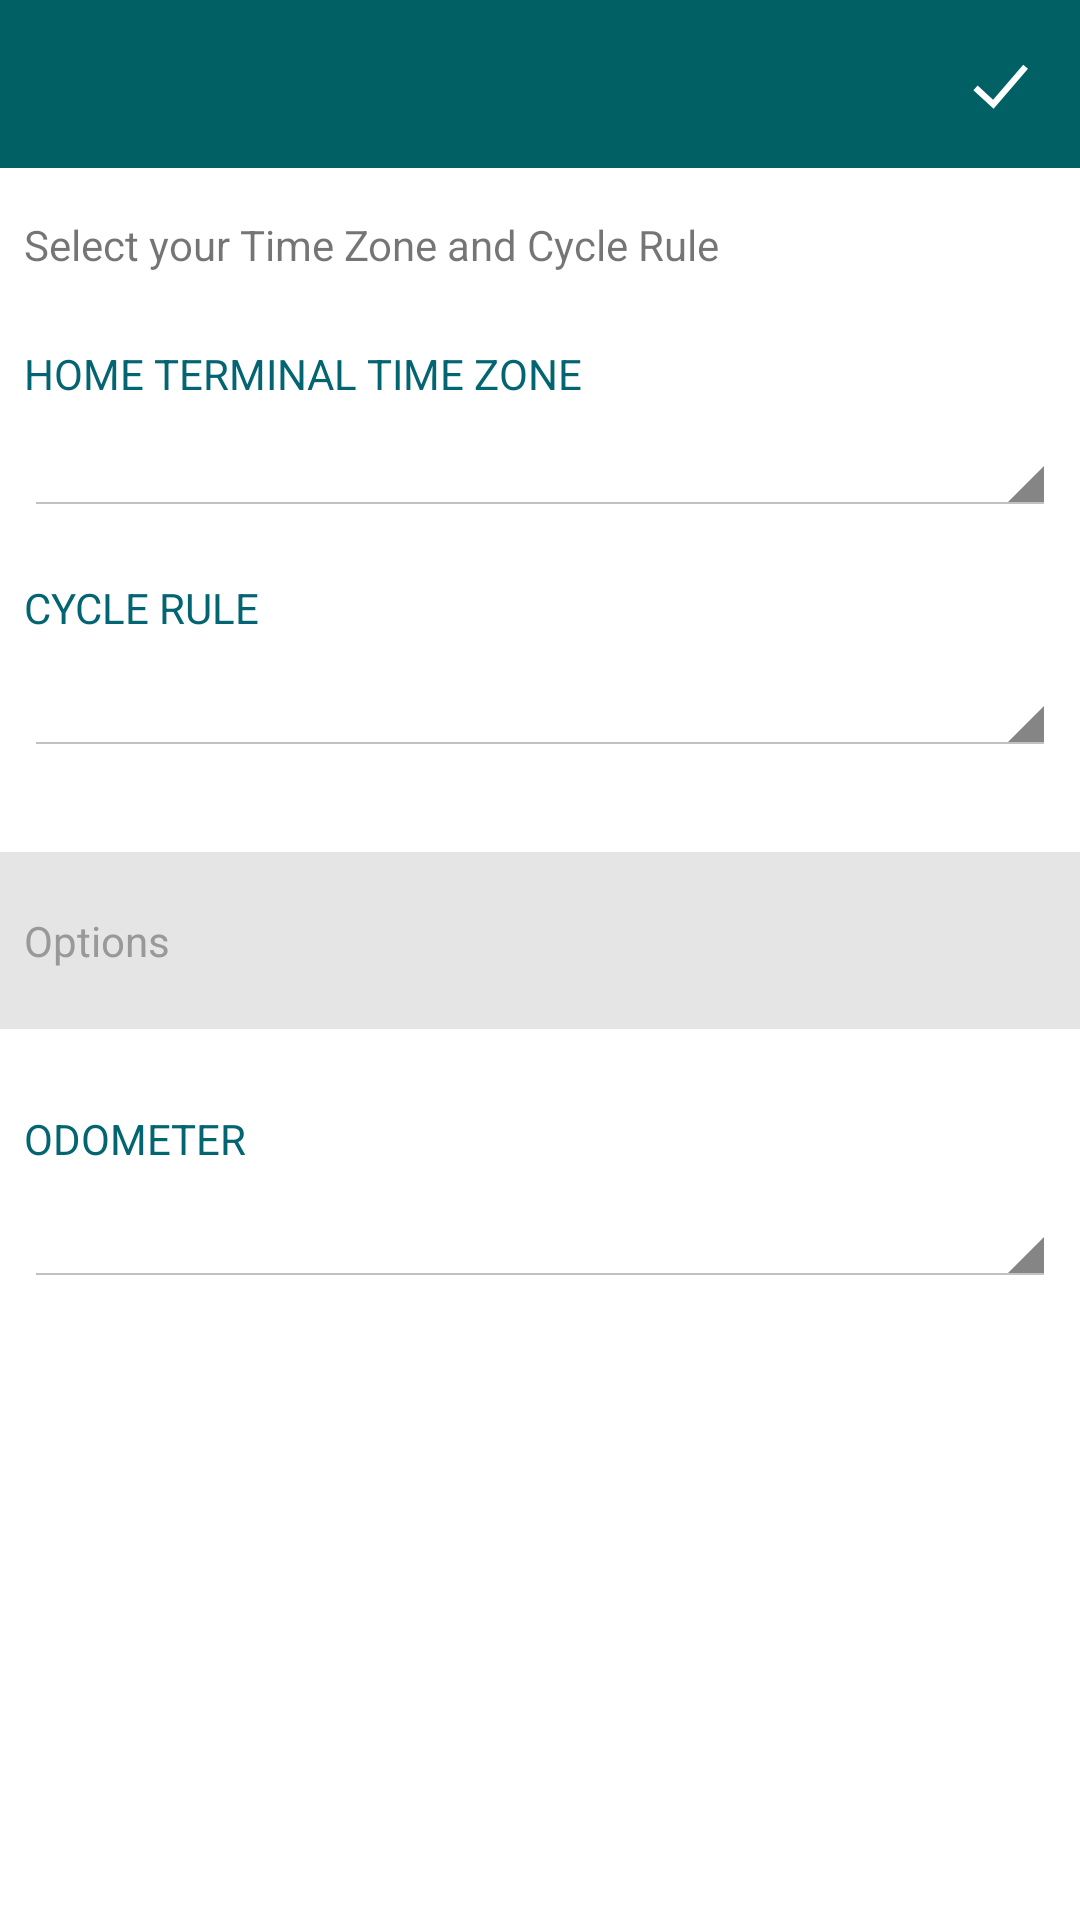

Icons on this 1080 × 1920 Android screen, each with its box as rect(x1, y1, x2, y2):
tick: rect(973, 65, 1028, 109)
